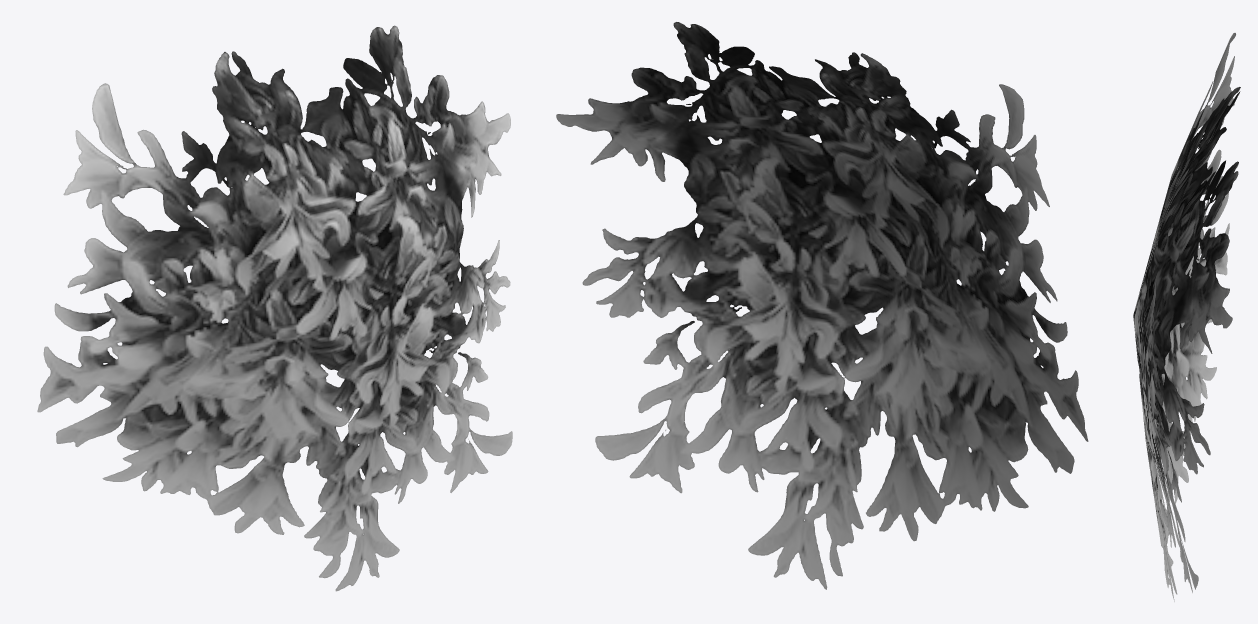
The picture shows the model from 3 angles, left to right: view 1: azimuth 30°, elevation 25°; view 2: azimuth 150°, elevation 25°; view 3: azimuth 270°, elevation 25°; orthographic projection. The views are drawn at different scales.
Visible parts, largest first — view 1: wj19; view 2: wj19; view 3: wj19.
Part boxes in pixels (x1,y1,x2,y2): wj19: (37, 25, 512, 591); wj19: (556, 22, 1088, 589); wj19: (1133, 33, 1240, 601).
Bounding box in the file's own units: 725 × 769 × 156.
